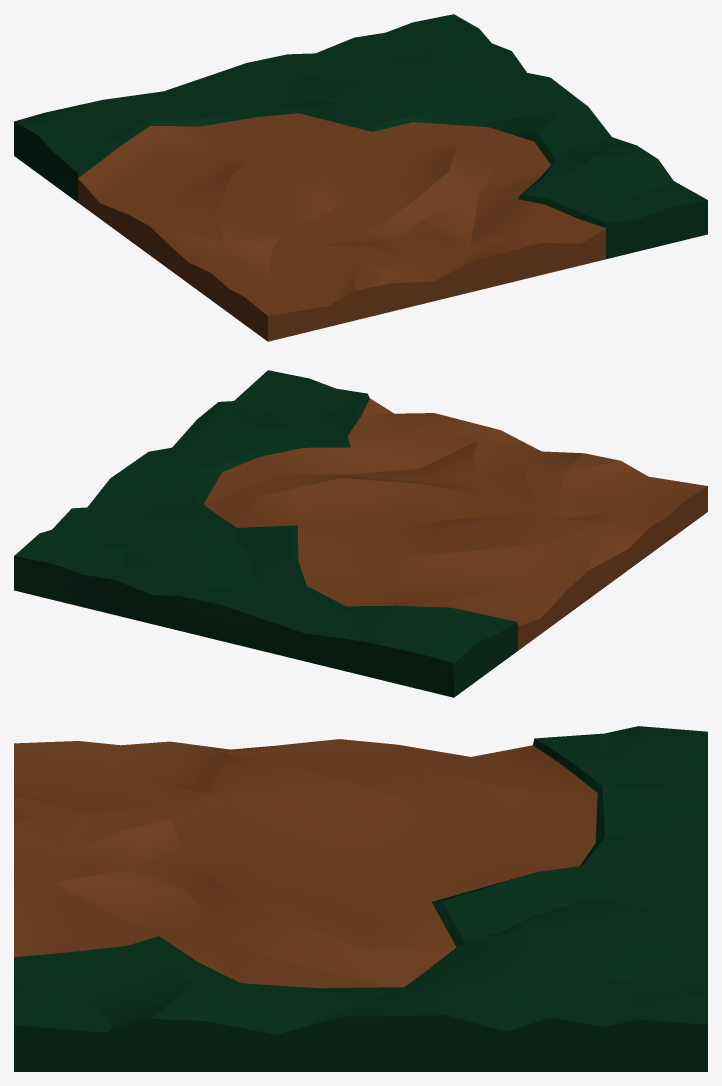
Rendered from Ground_Corner_Internal_RU_1.fbx.
3 views of the same model, one above another, from view 1: azimuth 30°, elevation 25°; view 2: azimuth 150°, elevation 25°; view 3: azimuth 270°, elevation 25° (orthographic). The views are drawn at different scales.
Visible parts, largest first — view 1: Ground_Corner_Internal_RU_1; view 2: Ground_Corner_Internal_RU_1; view 3: Ground_Corner_Internal_RU_1.
Part boxes in pixels (x1=…): Ground_Corner_Internal_RU_1: x1=14, y1=14, x2=707, y2=341; Ground_Corner_Internal_RU_1: x1=14, y1=370, x2=707, y2=697; Ground_Corner_Internal_RU_1: x1=14, y1=726, x2=707, y2=1071.
Bounding box in the file's own units: 147 × 13.97 × 147.
